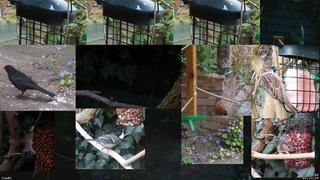blackbird: (1, 65, 56, 100)
great tit: (83, 128, 125, 153)
mouse: (264, 138, 295, 161), (22, 131, 35, 155)
sparrow: (260, 65, 299, 115)
